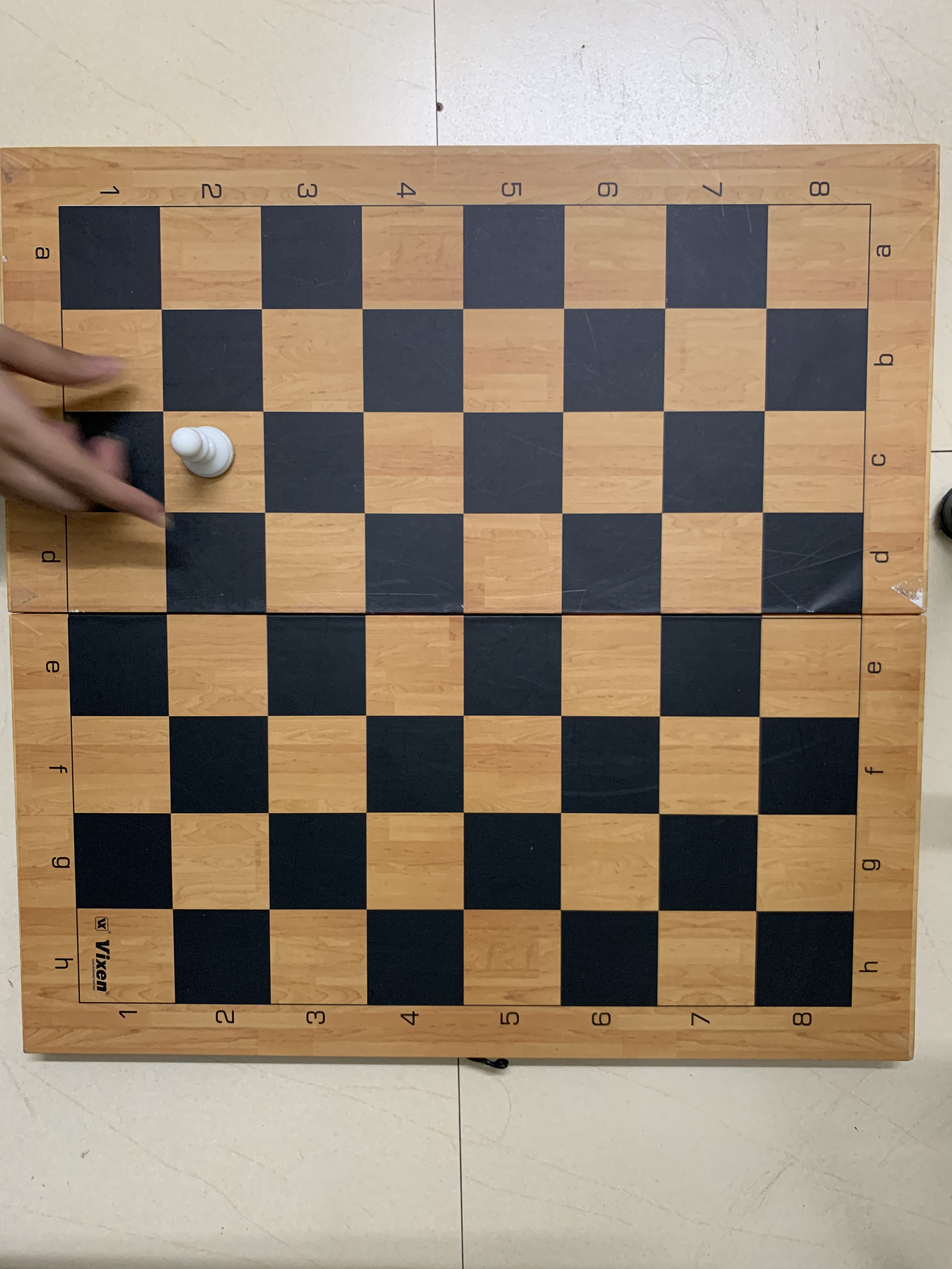white_pawn: (163, 408, 265, 512)
